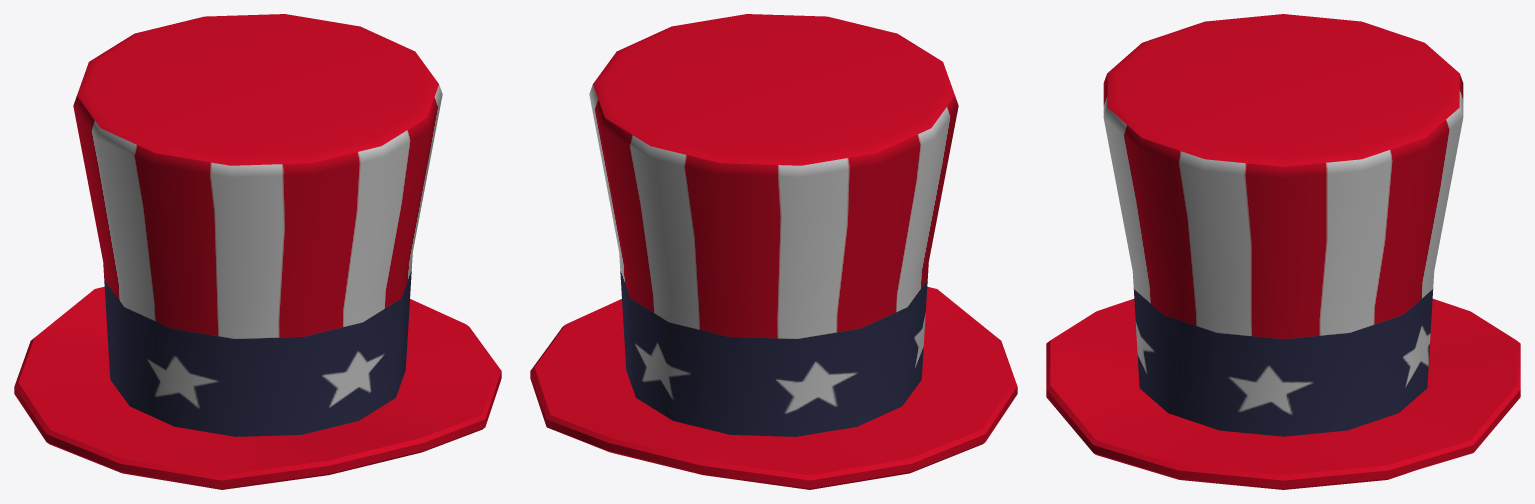
The model's file is hat.fbx.
3 renders of one model, left to right at view 1: azimuth 30°, elevation 25°; view 2: azimuth 150°, elevation 25°; view 3: azimuth 270°, elevation 25°, orthographic.
Parts seen in each view (by area): view 1: pCylinder26; view 2: pCylinder26; view 3: pCylinder26.
Boxes of the visible parts, x1=… form: pCylinder26: x1=14, y1=14, x2=501, y2=489; pCylinder26: x1=530, y1=14, x2=1017, y2=489; pCylinder26: x1=1046, y1=14, x2=1520, y2=489.
Bounding box in the file's own units: 0.0178 × 0.0124 × 0.0174.
1 material, 1 textured.
